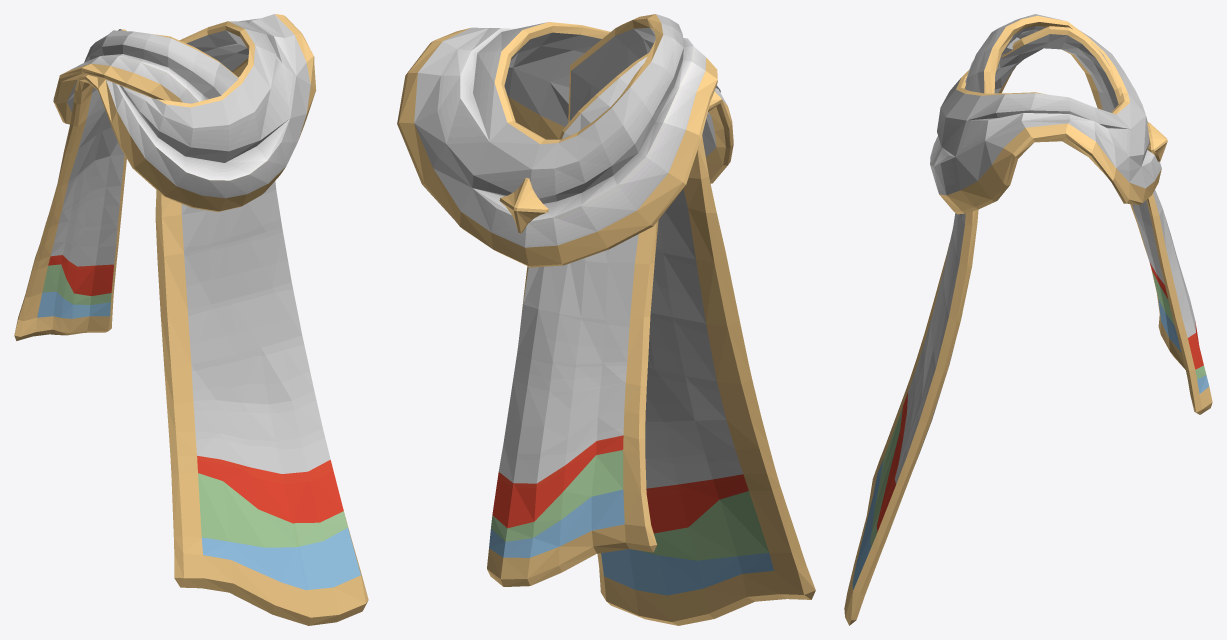
The model's file is CharSkyKid_Wing_AP25DyeCloth.glb.
The picture shows the model from 3 angles, left to right: view 1: azimuth 30°, elevation 25°; view 2: azimuth 150°, elevation 25°; view 3: azimuth 270°, elevation 25°; orthographic projection. The views are drawn at different scales.
Visible parts, largest first — view 1: CharSkyKid_Wing_AP25DyeCloth; view 2: CharSkyKid_Wing_AP25DyeCloth; view 3: CharSkyKid_Wing_AP25DyeCloth.
Part boxes in pixels (x1,y1,x2,y2): CharSkyKid_Wing_AP25DyeCloth: [14, 14, 368, 625]; CharSkyKid_Wing_AP25DyeCloth: [397, 14, 815, 625]; CharSkyKid_Wing_AP25DyeCloth: [844, 14, 1212, 625].
Bounding box in the file's own units: 4.51 × 10.29 × 6.24.
1 material, 1 textured.
